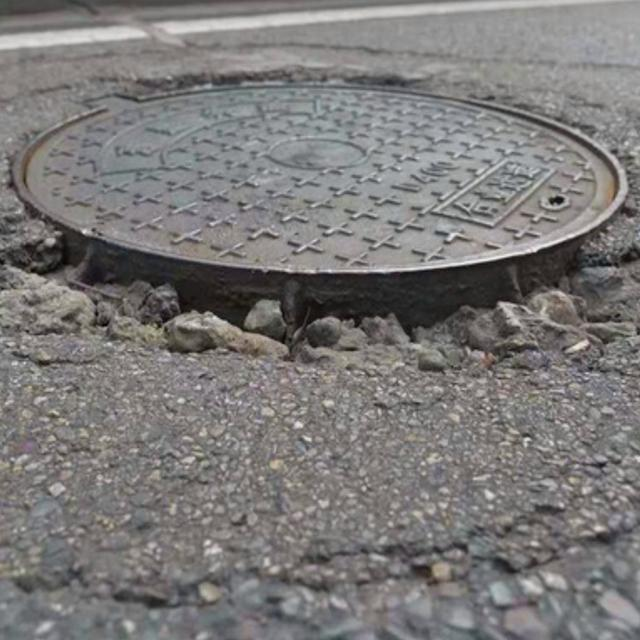circle: (0, 44, 640, 437)
